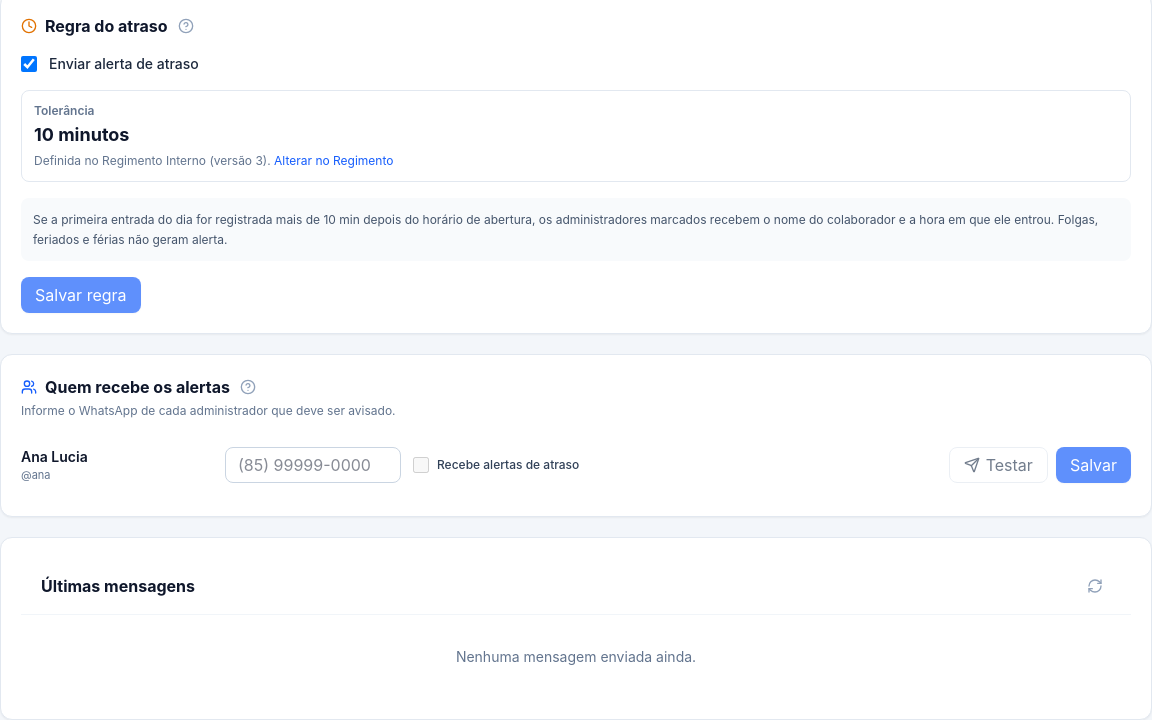
Test: AdminNotificationsPage › masks the WhatsApp number while typing and rejects letters
(page scrolled)
Type "34324234asd" into the field named "WhatsApp de Ana Lucia" at (313, 465), box [225,447,401,483]
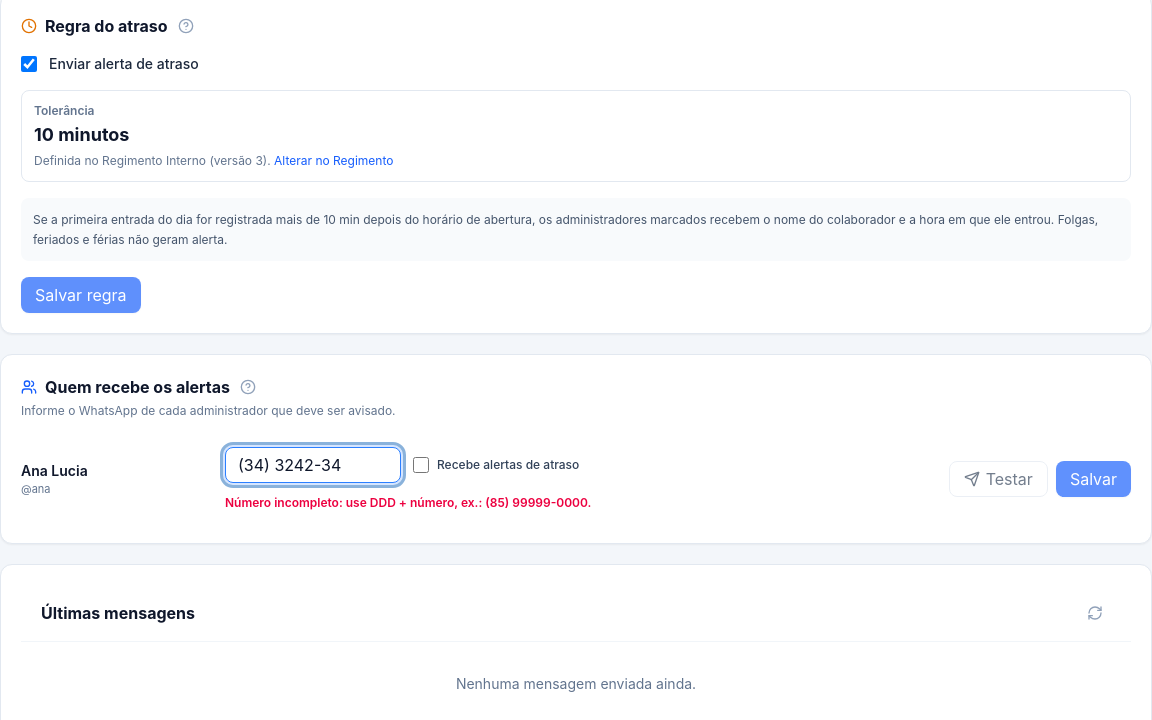
Expected: the button "Salvar" is disabled, [1056,461,1131,497]
Now the field named "WhatsApp de Ana Lucia" holds "(34) 3242-34"
Now the message shows "Número incompleto", box [225,495,591,510]
Type "567" into the field named "WhatsApp de Ana Lucia" at (313, 465), box [225,447,401,483]
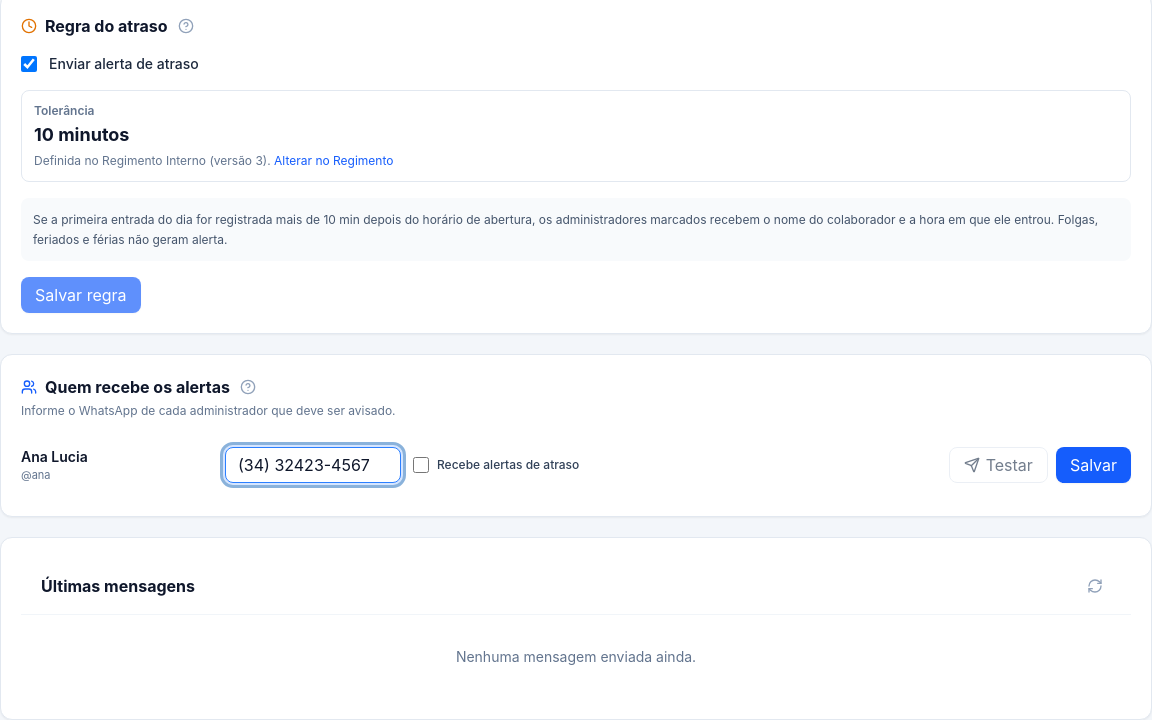
Now the field named "WhatsApp de Ana Lucia" holds "(34) 32423-4567", box [225,447,401,483]
Now the button "Salvar" is enabled, box [1056,447,1131,483]
